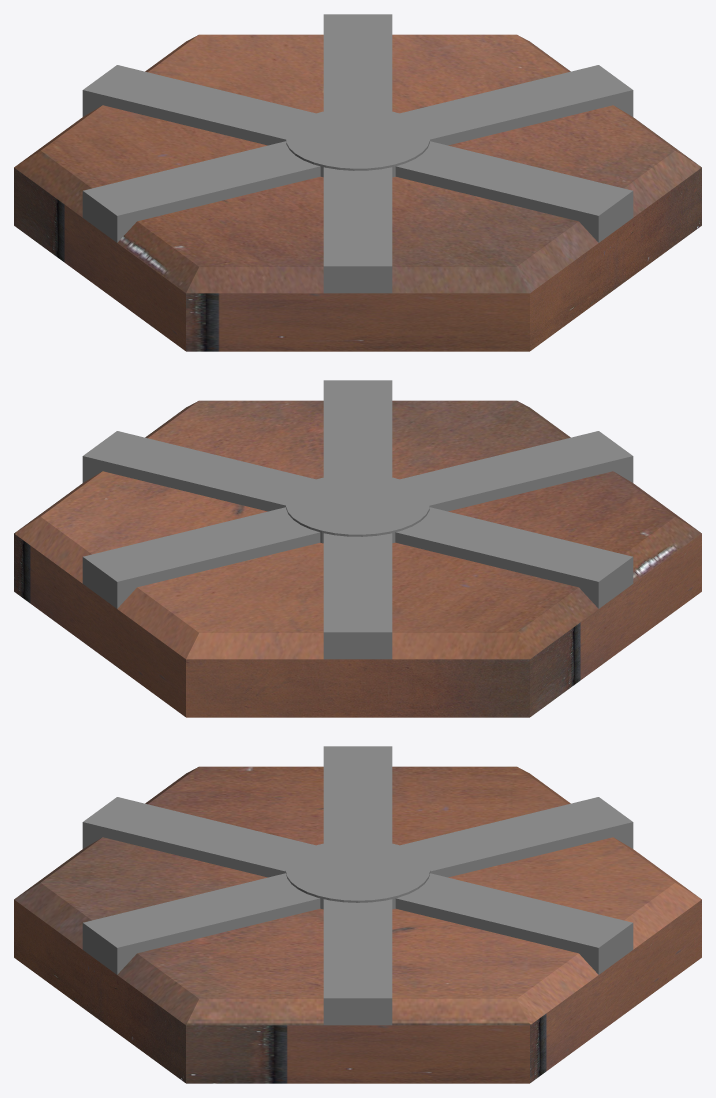
File: base_hexagon2.dae
3 renders of one model, top to bottom at view 1: azimuth 30°, elevation 25°; view 2: azimuth 150°, elevation 25°; view 3: azimuth 270°, elevation 25°, orthographic.
Parts seen in each view (by area): view 1: Hexagon, Connector_5, Connector_3, Connector_2, Connector_6, Connector_4, Central_connector, Connector_1; view 2: Hexagon, Connector_5, Connector_1, Connector_2, Connector_4, Connector_6, Central_connector, Connector_3; view 3: Hexagon, Connector_3, Connector_1, Connector_4, Connector_6, Connector_2, Central_connector, Connector_5.
Part boxes in pixels (left/top/right/bottom): Hexagon: left=14, top=34, right=701, bottom=351; Connector_5: left=82, top=141, right=320, bottom=242; Connector_3: left=395, top=141, right=633, bottom=242; Connector_2: left=400, top=65, right=633, bottom=145; Connector_6: left=82, top=65, right=315, bottom=145; Connector_4: left=323, top=167, right=392, bottom=293; Central_connector: left=286, top=107, right=429, bottom=177; Connector_1: left=323, top=14, right=392, bottom=111; Hexagon: left=14, top=400, right=701, bottom=717; Connector_5: left=395, top=507, right=633, bottom=608; Connector_1: left=82, top=507, right=320, bottom=608; Connector_2: left=82, top=431, right=315, bottom=511; Connector_4: left=400, top=431, right=633, bottom=511; Connector_6: left=323, top=533, right=392, bottom=659; Central_connector: left=286, top=473, right=429, bottom=543; Connector_3: left=323, top=380, right=392, bottom=477; Hexagon: left=14, top=766, right=701, bottom=1083; Connector_3: left=82, top=873, right=320, bottom=974; Connector_1: left=395, top=873, right=633, bottom=974; Connector_4: left=82, top=797, right=315, bottom=877; Connector_6: left=400, top=797, right=633, bottom=877; Connector_2: left=323, top=899, right=392, bottom=1025; Central_connector: left=285, top=839, right=430, bottom=909; Connector_5: left=323, top=746, right=392, bottom=843.
Size of the model in its own units: 1.73 by 2 by 0.2802.
Materials: 2 (1 with a texture image).
